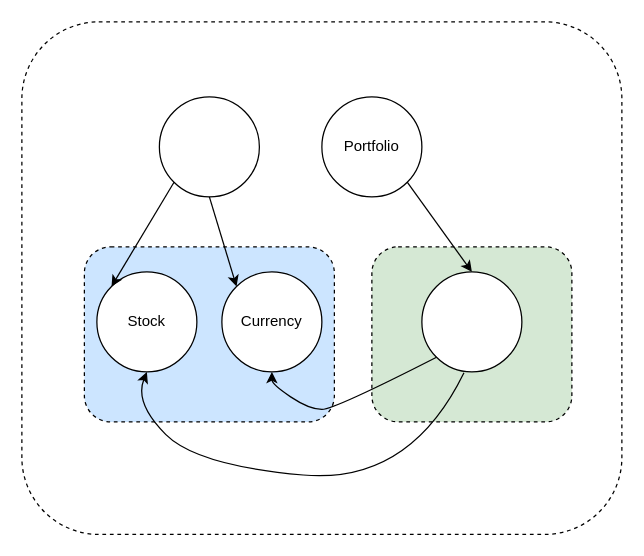
This 644x556 diagram has some shape labels left out. Here are the shapes that lost their labels. From the top down, the centre of each, then its label:
point 208,146: Watchlist
point 471,321: Position
